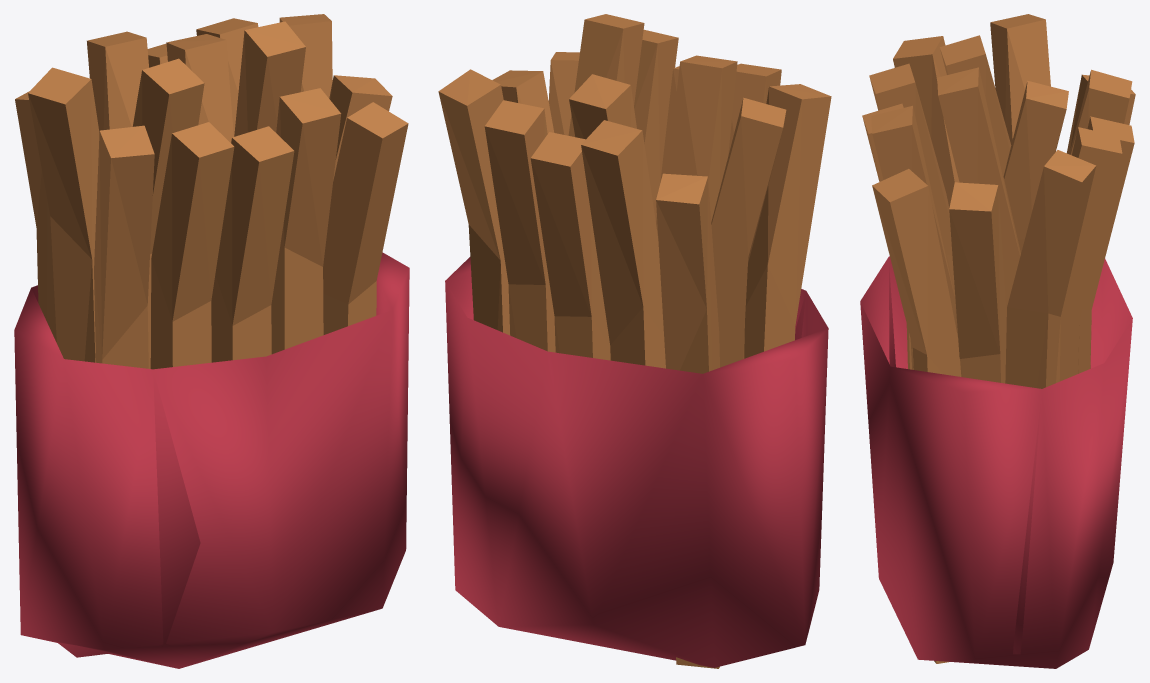
The model's file is FriesInTheBag.fbx.
3 views of the same model, side by side, from view 1: azimuth 30°, elevation 25°; view 2: azimuth 150°, elevation 25°; view 3: azimuth 270°, elevation 25° (orthographic). The views are drawn at different scales.
Visible parts, largest first — view 1: Cube, Cube.002, Cube.010, Cube.005, Cube.001, Cube.003, Cube.004, Cube.009, Cube.007, Cube.014, Cube.006, Cube.013 (+3 smaller); view 2: Cube, Cube.014, Cube.001, Cube.015, Cube.012, Cube.013, Cube.010, Cube.011, Cube.009, Cube.004, Cube.007, Cube.006 (+4 smaller); view 3: Cube, Cube.011, Cube.003, Cube.008, Cube.007, Cube.012, Cube.006, Cube.010, Cube.004, Cube.001, Cube.002, Cube.015 (+4 smaller).
Part boxes in pixels (left/top/right/bottom): Cube: left=14, top=252, right=409, bottom=668; Cube.002: left=150, top=122, right=234, bottom=369; Cube.010: left=28, top=67, right=99, bottom=362; Cube.005: left=211, top=126, right=294, bottom=362; Cube.001: left=94, top=125, right=154, bottom=368; Cube.003: left=323, top=102, right=408, bottom=334; Cube.004: left=271, top=88, right=341, bottom=354; Cube.009: left=132, top=58, right=204, bottom=368; Cube.007: left=234, top=21, right=305, bottom=136; Cube.014: left=87, top=31, right=148, bottom=132; Cube.006: left=166, top=34, right=233, bottom=142; Cube.013: left=15, top=91, right=56, bottom=342; Cube: left=445, top=257, right=828, bottom=667; Cube.014: left=581, top=120, right=665, bottom=368; Cube.001: left=744, top=84, right=831, bottom=358; Cube.015: left=530, top=132, right=610, bottom=360; Cube.012: left=484, top=100, right=555, bottom=352; Cube.013: left=656, top=173, right=719, bottom=668; Cube.010: left=711, top=97, right=786, bottom=367; Cube.011: left=438, top=69, right=510, bottom=335; Cube.009: left=667, top=55, right=737, bottom=221; Cube.004: left=634, top=29, right=678, bottom=221; Cube.007: left=568, top=14, right=644, bottom=136; Cube.006: left=569, top=74, right=636, bottom=139; Cube: left=860, top=256, right=1132, bottom=668; Cube.011: left=1005, top=150, right=1096, bottom=388; Cube.003: left=872, top=169, right=961, bottom=663; Cube.008: left=949, top=182, right=1006, bottom=383; Cube.007: left=937, top=67, right=1020, bottom=316; Cube.012: left=1059, top=127, right=1122, bottom=381; Cube.006: left=1003, top=80, right=1068, bottom=252; Cube.010: left=990, top=14, right=1050, bottom=144; Cube.004: left=871, top=105, right=958, bottom=369; Cube.001: left=893, top=36, right=959, bottom=207; Cube.002: left=869, top=63, right=954, bottom=290; Cube.015: left=1078, top=116, right=1134, bottom=373.
Size of the model in its own units: 499 by 773 by 348.
